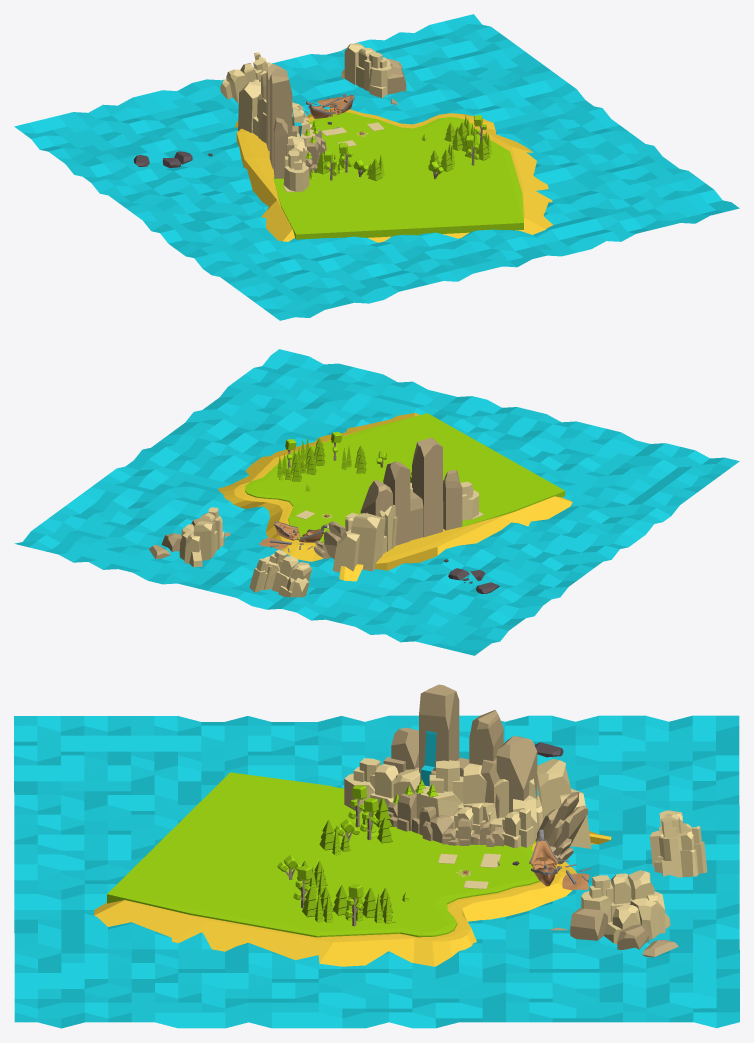
The model's file is StageRef12.fbx.
3 views of the same model, one above another, from view 1: azimuth 30°, elevation 25°; view 2: azimuth 150°, elevation 25°; view 3: azimuth 270°, elevation 25° (orthographic). The views are drawn at different scales.
Visible parts, largest first — view 1: tree_big_3; view 2: tree_big_3; view 3: tree_big_3.
Part boxes in pixels (left/top/right/bottom): tree_big_3: left=14, top=14, right=739, bottom=320; tree_big_3: left=14, top=349, right=739, bottom=655; tree_big_3: left=14, top=684, right=739, bottom=1028.
Size of the model in its own units: 3222 by 672 by 3222.
